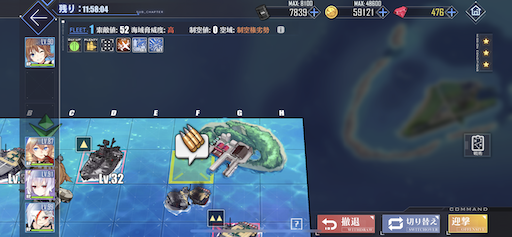lv1: (73, 136, 130, 184)
lv2: (202, 206, 261, 236)
